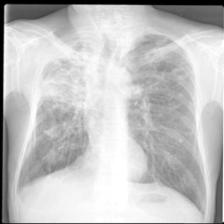tuberculosis: (11, 23, 211, 219)
